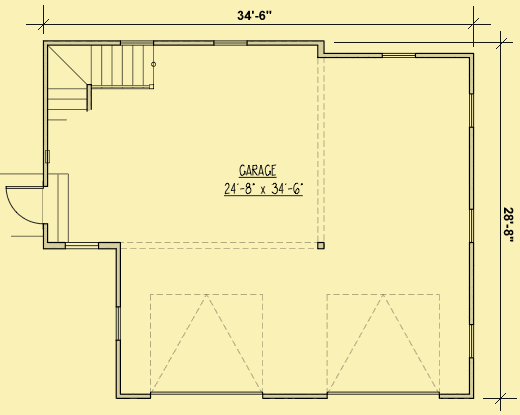door: (4, 181, 43, 226)
stairs: (46, 43, 159, 131)
window: (379, 48, 419, 60), (208, 36, 248, 48), (61, 240, 101, 252), (119, 37, 159, 49), (466, 92, 477, 130), (464, 206, 475, 244), (466, 321, 477, 359), (112, 304, 123, 342)
